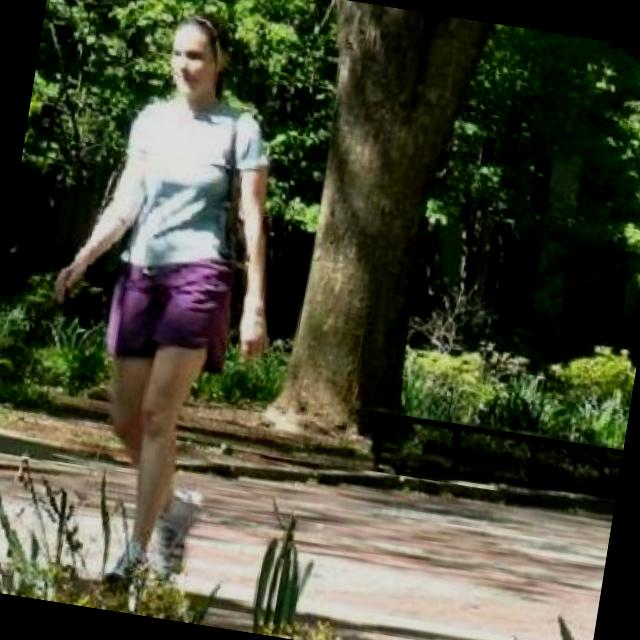Person: (0, 0, 315, 601)
